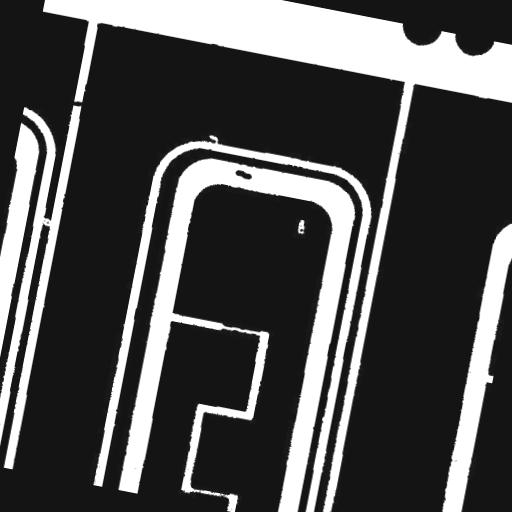copper: (226, 160, 262, 188)
mousebite: (198, 126, 228, 153)
open: (31, 208, 60, 235)
pin-hole: (288, 210, 315, 243)
short: (61, 91, 95, 116)
